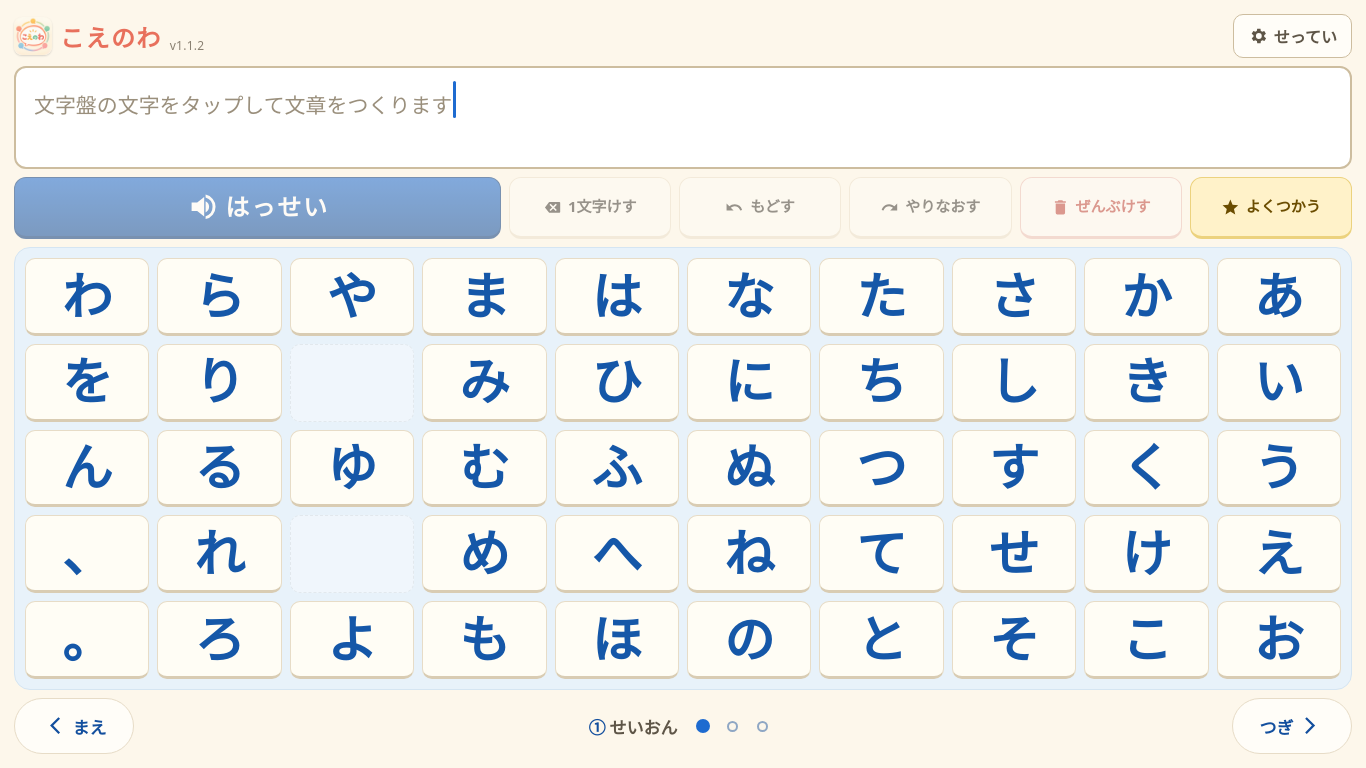
it: 音声の設定 › 端末内の日本語音声がないときは話さず、理由を表示する
The image size is (1366, 768).
Click the button "は". click: (617, 297)
box: [555, 258, 679, 336]
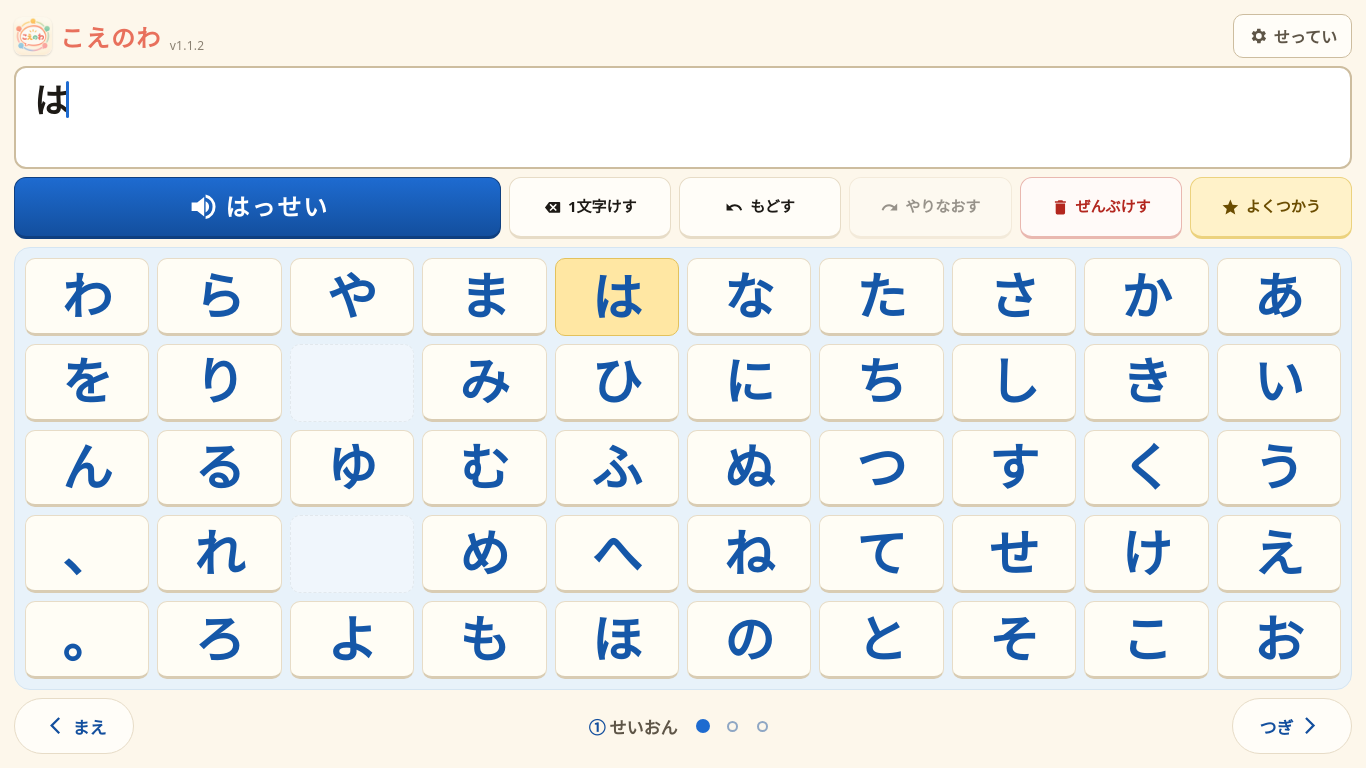
Click the button "い". click: (1279, 383)
box: [1217, 344, 1341, 422]
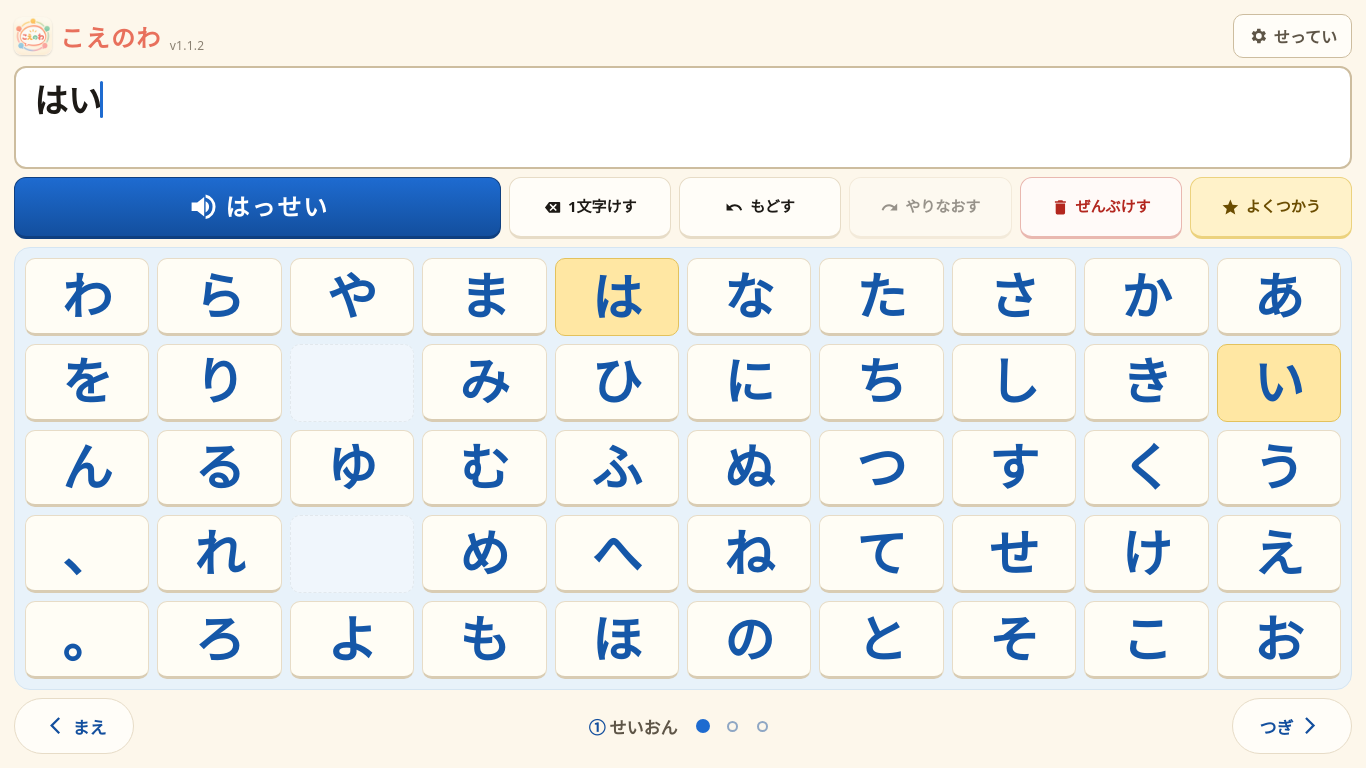
Click the button "はっせい". click: (257, 208)
box: [14, 177, 501, 239]
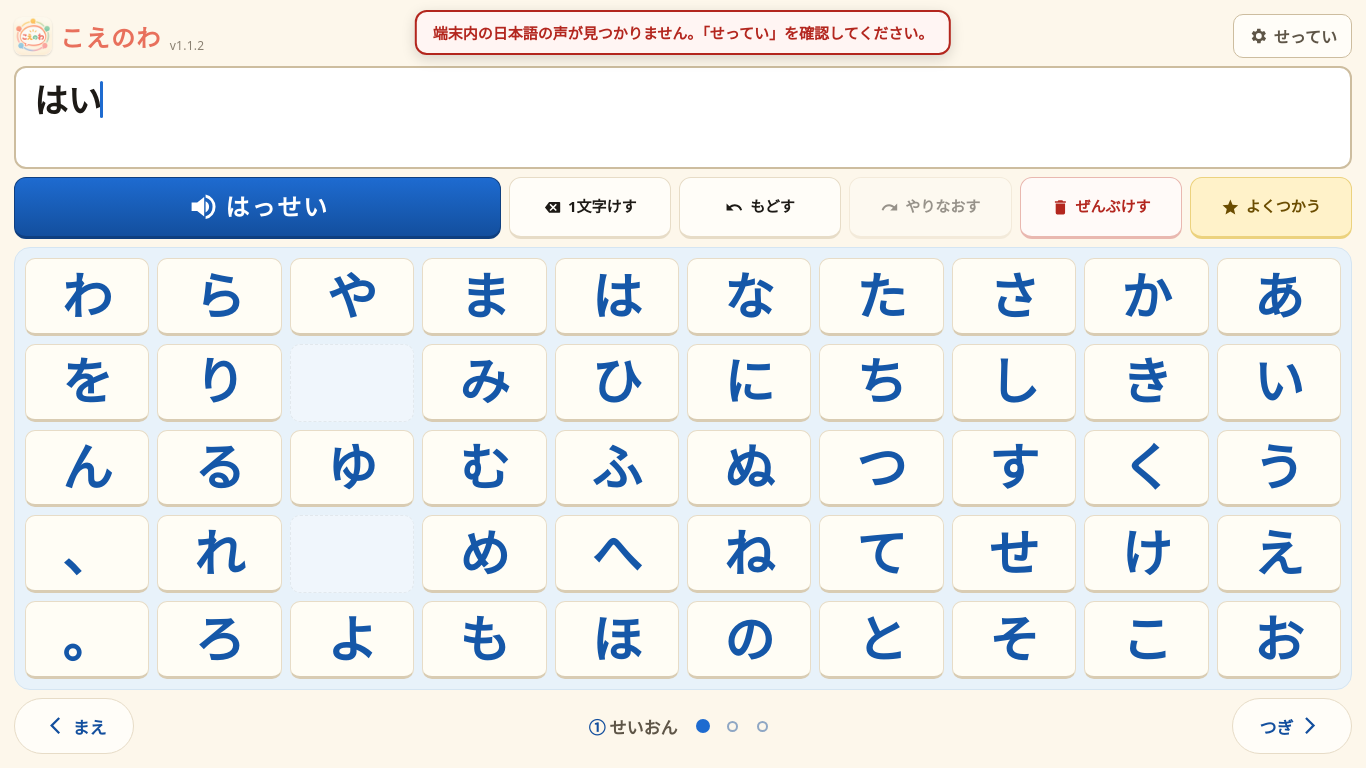
Result: the message shows "端末内の日本語の声が見つかりません" at [433, 23, 933, 43]
